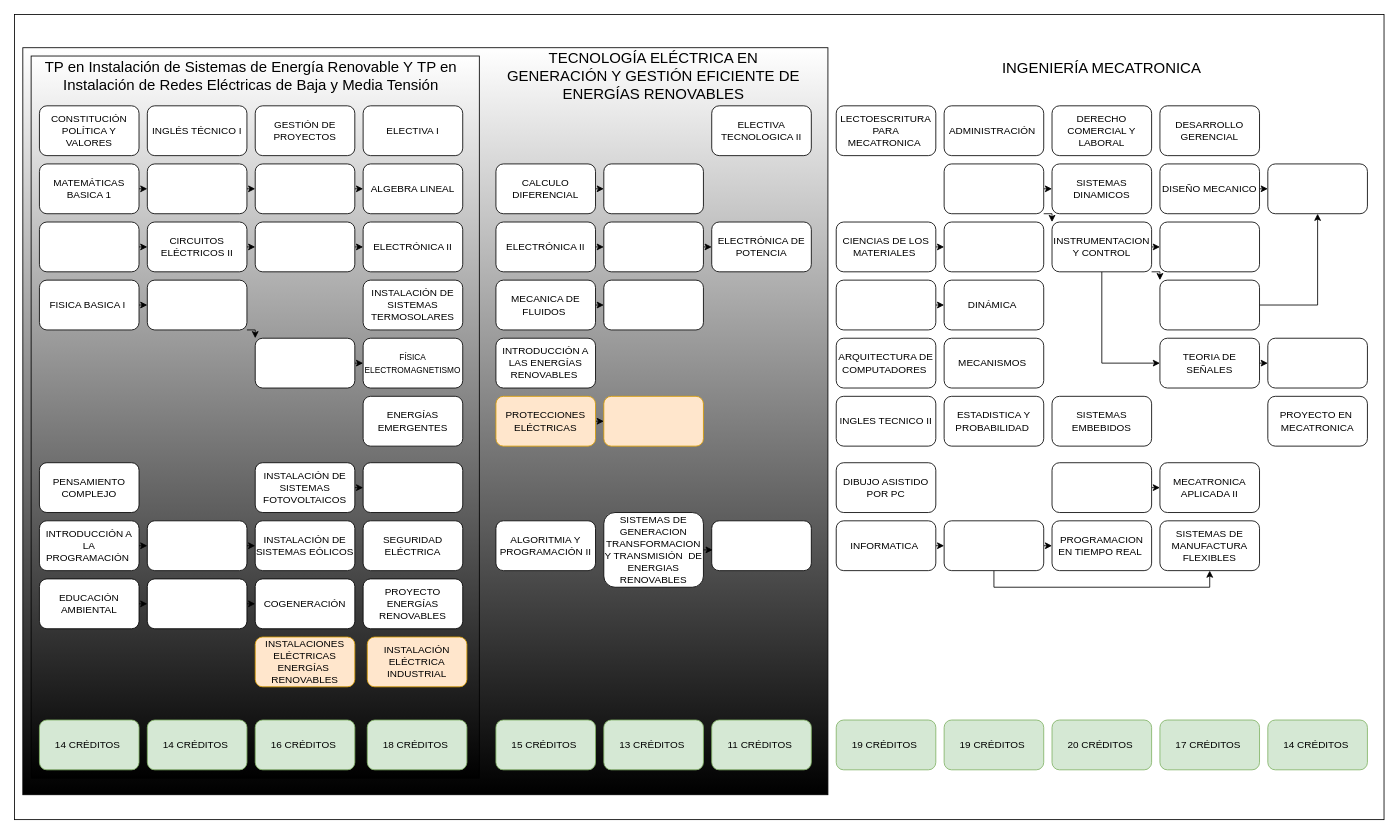
The diagram is 1399 pixels wide and 834 high, and some of its shapes have lost their labels. The centre of each missing label's shape, as x and y in pixels:
"CALCULO INTEGRAL" goes at point (653, 188).
"CIRCUITOS ELECTRICOS I" goes at point (89, 246).
"CONTROL DE PROCESOS ASISTIDO POR COMPUTADOR" goes at point (1209, 304).
"CONTROL SECUENCIAL-PLC" goes at point (993, 545).
"DIBUJO PLANOS ELÉCTRICOS" goes at point (196, 545).
"DISEÑO MECATRONICO" goes at point (1317, 188).
"ECUACIONES DIFERENCIALES" goes at point (993, 188).
"ELECTRONICA DIGITAL" goes at point (653, 246).
"ELECTRÓNICA I" goes at point (304, 246).
"ESTATICA" goes at point (885, 304).
"FISICA BASICA II" goes at point (196, 304).
"FISICA DE OSCILACIONES, ONDAS" goes at point (304, 362).
"GESTION EFICIENTE DE ENERGIAS RENOVABLES" goes at point (761, 545).
"INSTRUMENTACION ASISTIDA POR COMPUTADOR" goes at point (1209, 246).
"LOGICA MATEMATICA" goes at point (304, 188).
"MATEMÁTICAS BASICA 2" goes at point (196, 188).
"MECANICA DE MATERIALES" goes at point (993, 246).
"MECATRONICA APLICADA I" goes at point (1101, 487).
"MÁQUINAS ELÉCTRICAS" goes at point (412, 487).
"NORMATIVA ELÉCTRICA COLOMBIANA" goes at point (196, 603).
"PROCESAMIENTO DE SEÑALES" goes at point (1317, 362).
"SISTEMAS PUESTA A TIERRA" goes at point (653, 420).
"TERMODINÁMICA" goes at point (653, 304).
